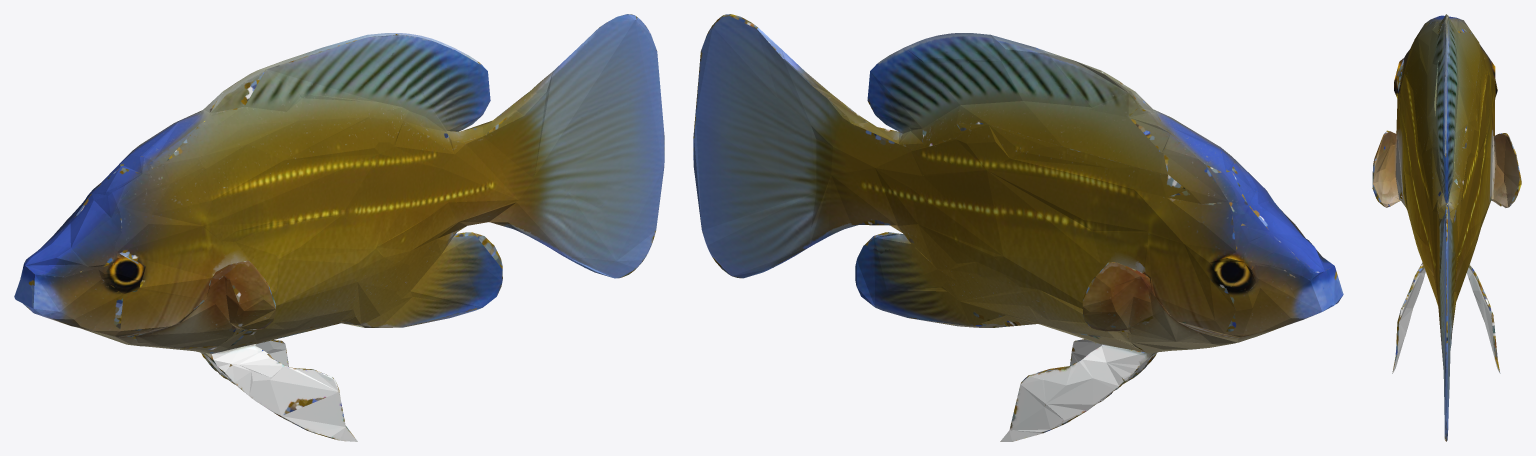
The model's file is fish_0093_smpl23_resized.glb.
3 views of the same model, side by side, from view 1: azimuth 30°, elevation 25°; view 2: azimuth 150°, elevation 25°; view 3: azimuth 270°, elevation 25° (orthographic). The views are drawn at different scales.
Visible parts, largest first — view 1: world; view 2: world; view 3: world.
Boxes of the visible parts, bbox=[...] form: world: bbox=[14, 14, 664, 441]; world: bbox=[693, 14, 1343, 441]; world: bbox=[1372, 14, 1521, 441].
Size of the model in its own units: 1.99 by 1.11 by 0.4474.
Materials: 1 (1 with a texture image).
